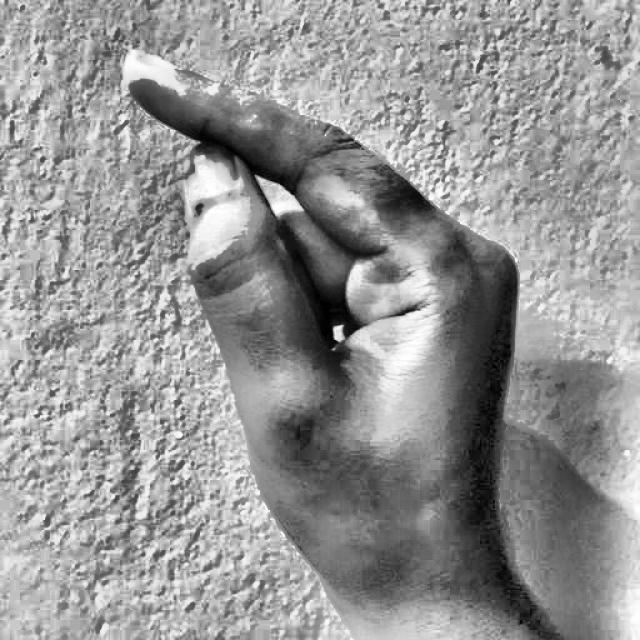Tha: (90, 24, 578, 640)
